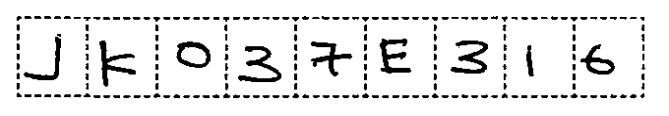0: (172, 34, 214, 74)
1: (514, 41, 550, 80)
3: (233, 40, 286, 90), (446, 35, 494, 80)
6: (578, 40, 621, 82)
7: (302, 34, 357, 80)
E: (372, 34, 417, 79)
J: (21, 29, 71, 84)
K: (94, 35, 141, 90)
